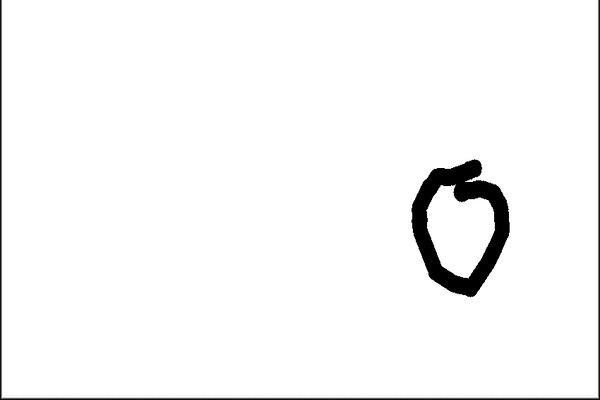O: (397, 152, 515, 303)
